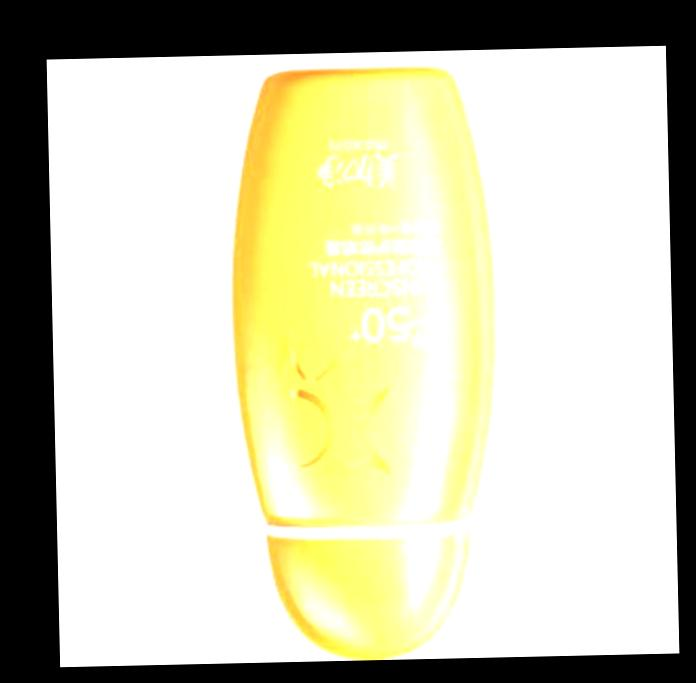cosmetic: (228, 62, 506, 662)
